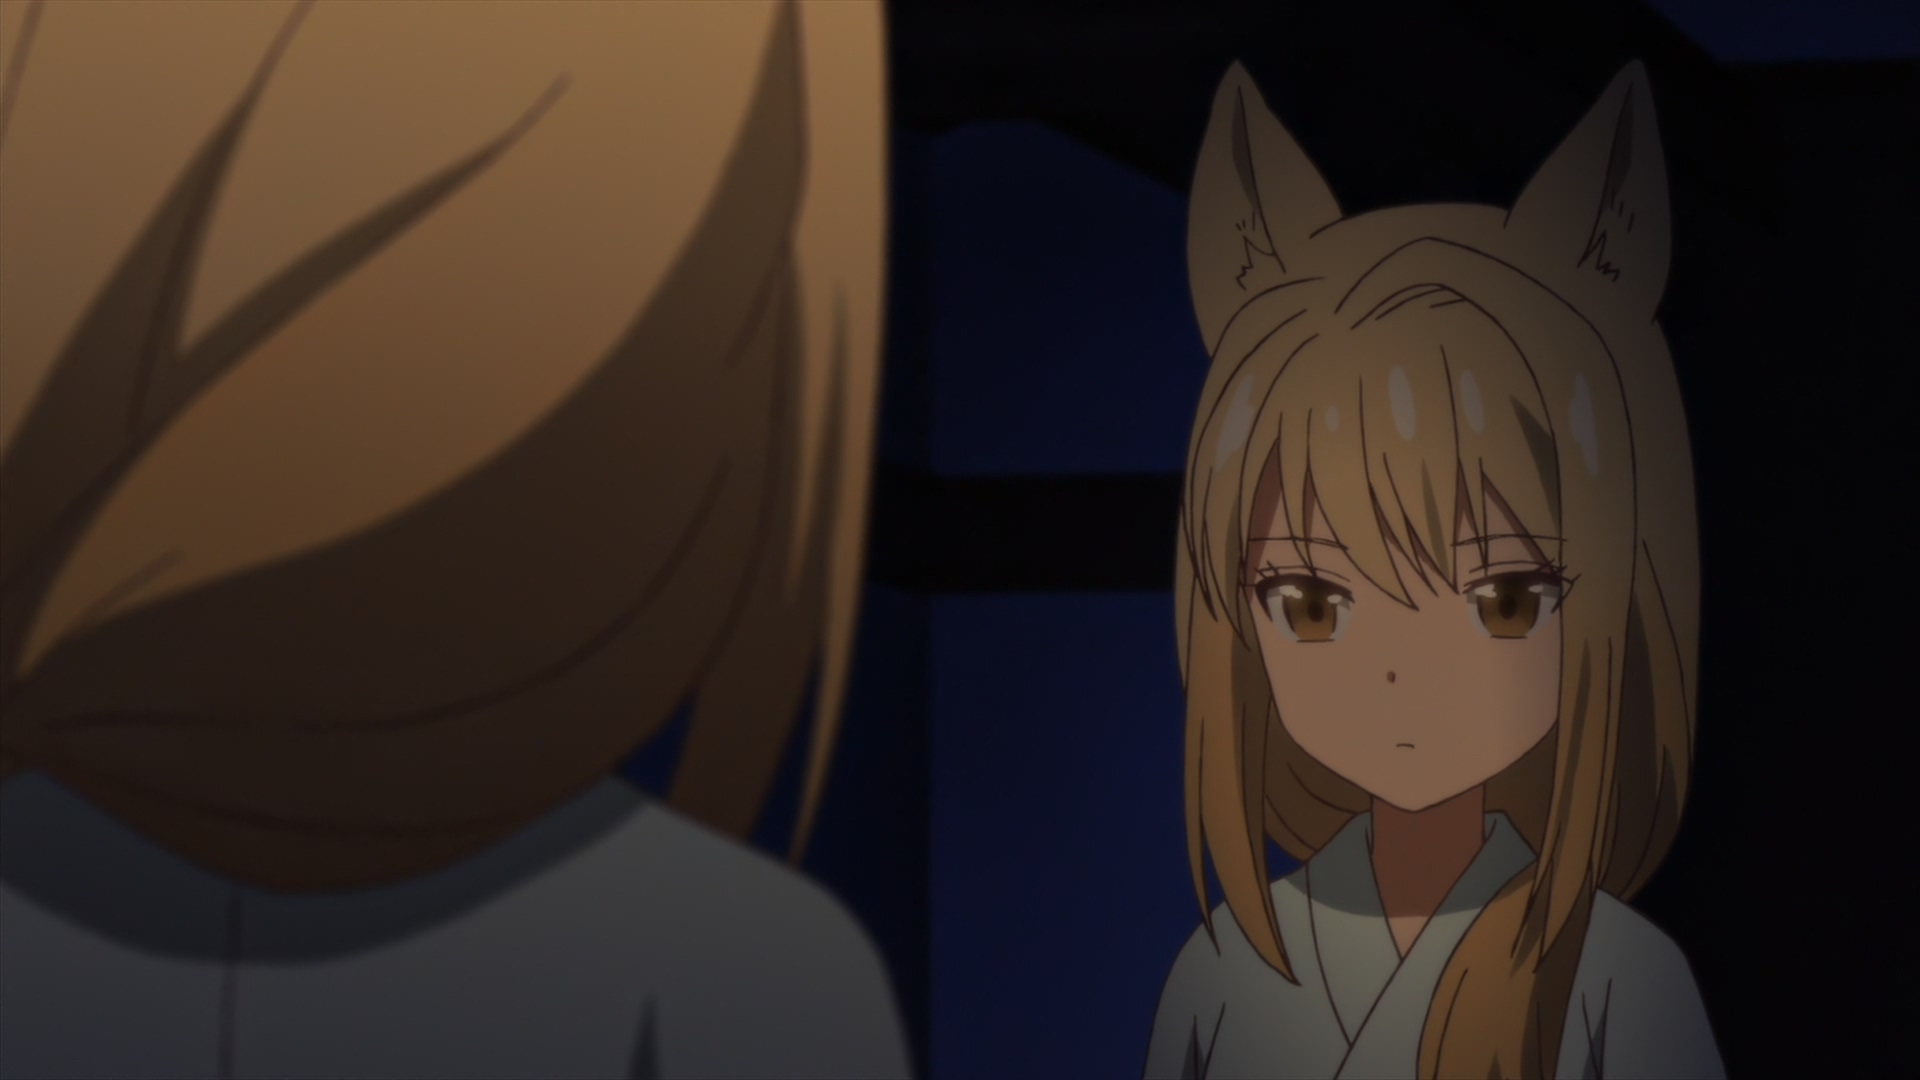桐: (1, 1, 909, 1080), (1149, 61, 1724, 1080)
